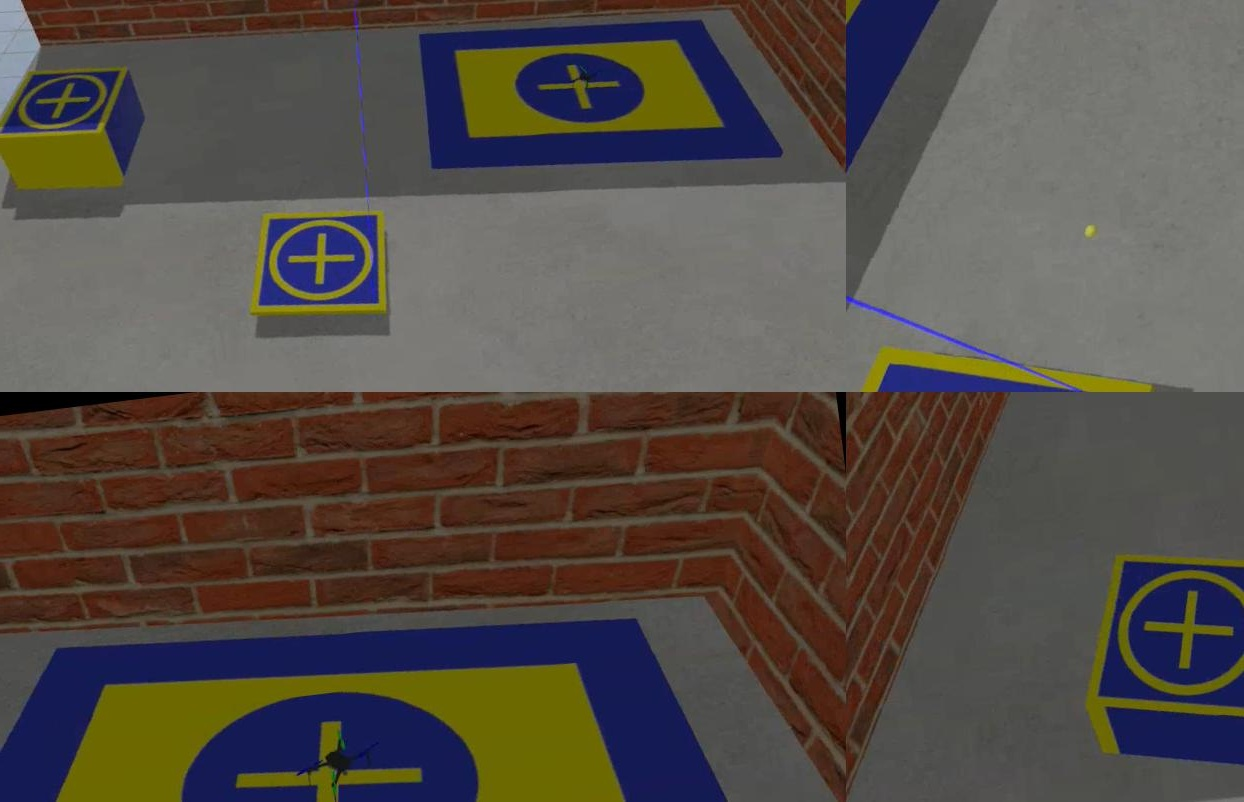large_base: (0, 549, 838, 802), (411, 1, 779, 200), (845, 1, 1114, 236)
small_base: (1063, 535, 1242, 743), (845, 311, 1163, 392), (236, 200, 395, 333), (0, 58, 137, 152)
